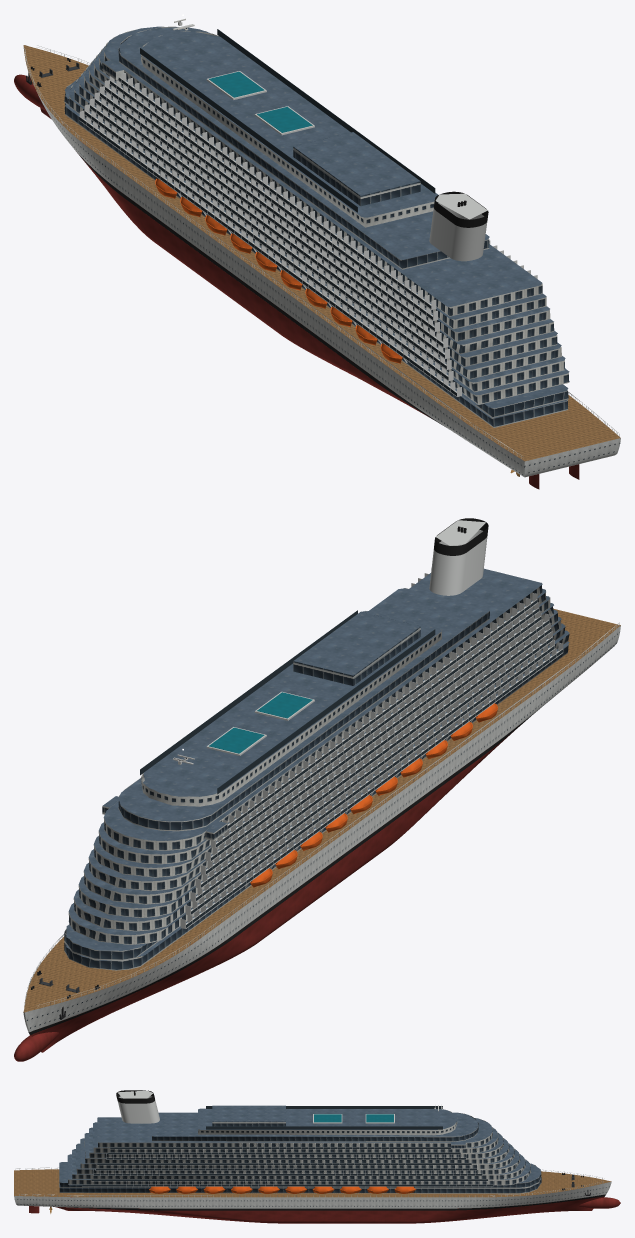
File: boat_cruiseship.glb
The picture shows the model from 3 angles, top to bottom: view 1: azimuth 30°, elevation 25°; view 2: azimuth 150°, elevation 25°; view 3: azimuth 270°, elevation 25°; orthographic projection. The views are drawn at different scales.
Visible parts, largest first — view 1: Bridge, Hull, Balconies, Superstructure, Balcony glass, Pools and sun deck, Lifeboats, Funnel; view 2: Bridge, Hull, Balconies, Superstructure, Balcony glass, Pools and sun deck, Lifeboats, Funnel; view 3: Hull, Superstructure, Bridge, Balcony glass, Balconies, Pools and sun deck, Lifeboats, Funnel.
Part boxes in pixels (box(x1,y1,x2,y2)): Bridge: box(65, 26, 569, 418); Hull: box(14, 45, 620, 489); Balconies: box(24, 21, 619, 458); Superstructure: box(69, 26, 568, 404); Balcony glass: box(79, 29, 456, 395); Pools and sun deck: box(64, 26, 568, 427); Lifeboats: box(155, 178, 402, 363); Funnel: box(434, 191, 488, 227); Bridge: box(66, 568, 569, 960); Hull: box(14, 608, 620, 1061); Balconies: box(24, 520, 619, 1007); Superstructure: box(68, 585, 569, 944); Balcony glass: box(140, 600, 562, 927); Pools and sun deck: box(64, 588, 568, 970); Lifeboats: box(250, 703, 497, 887); Funnel: box(434, 518, 488, 555); Hull: box(14, 1169, 620, 1223); Superstructure: box(68, 1109, 531, 1185); Bridge: box(59, 1105, 541, 1188); Balcony glass: box(82, 1106, 493, 1186); Balconies: box(15, 1090, 604, 1196); Pools and sun deck: box(59, 1113, 541, 1193); Lifeboats: box(149, 1186, 416, 1193); Funnel: box(116, 1090, 154, 1103).
Bounding box in the file's own units: 21.35 × 39.86 × 185.
22 materials, 12 textured.
